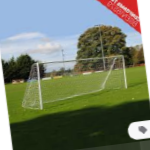goals: (20, 52, 127, 110)
